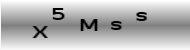5: (50, 6, 66, 21)
M: (79, 18, 99, 32)
X: (32, 24, 48, 40)
s: (110, 19, 123, 31), (135, 10, 148, 22)
